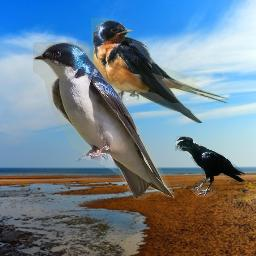Crow: (175, 136, 245, 197)
Swallow: (33, 42, 175, 200), (91, 18, 229, 123)
